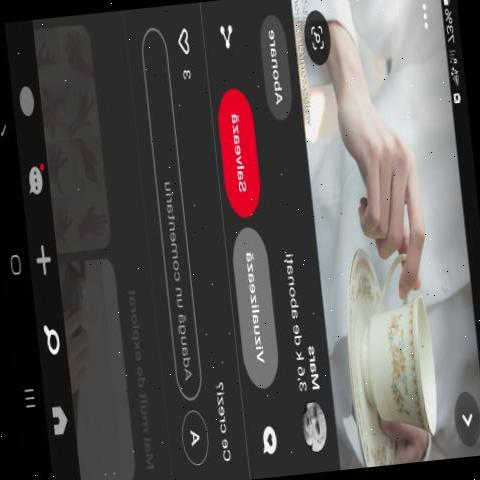Hands: (326, 9, 442, 300)
